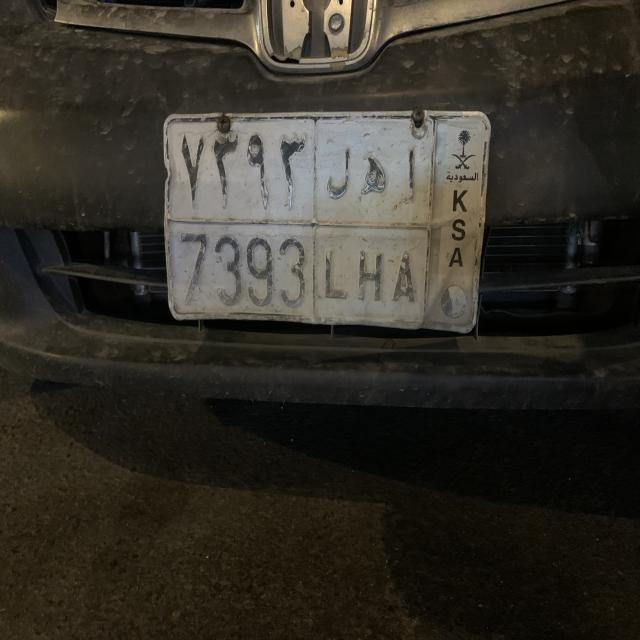license_plate: (162, 105, 496, 338)
